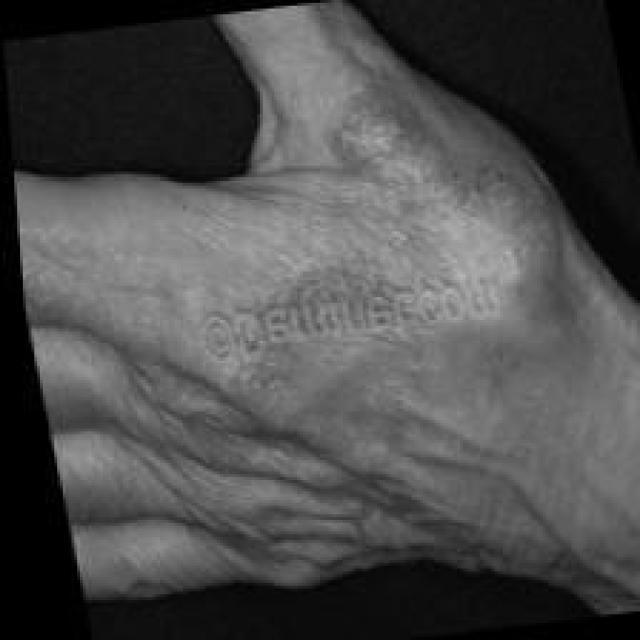Eczema: (166, 76, 546, 560)
